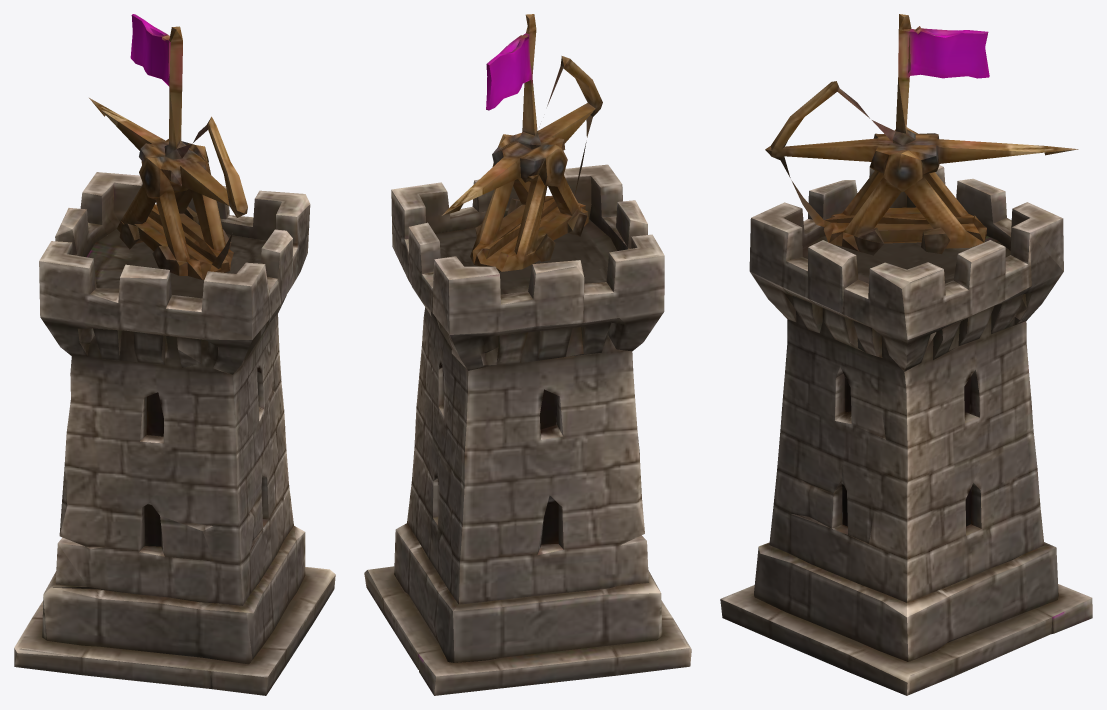
The model's file is tower2.lod1.glb.
3 views of the same model, side by side, from view 1: azimuth 30°, elevation 25°; view 2: azimuth 150°, elevation 25°; view 3: azimuth 270°, elevation 25° (orthographic).
Parts seen in each view (by area): view 1: tower2.lod1_uv; view 2: tower2.lod1_uv; view 3: tower2.lod1_uv.
Part boxes in pixels (left/top/right/bottom): tower2.lod1_uv: left=14, top=14, right=335, bottom=695; tower2.lod1_uv: left=364, top=14, right=691, bottom=695; tower2.lod1_uv: left=720, top=14, right=1092, bottom=695.
Size of the model in its own units: 1.06 by 1.9 by 1.06.
Materials: 1 (1 with a texture image).
